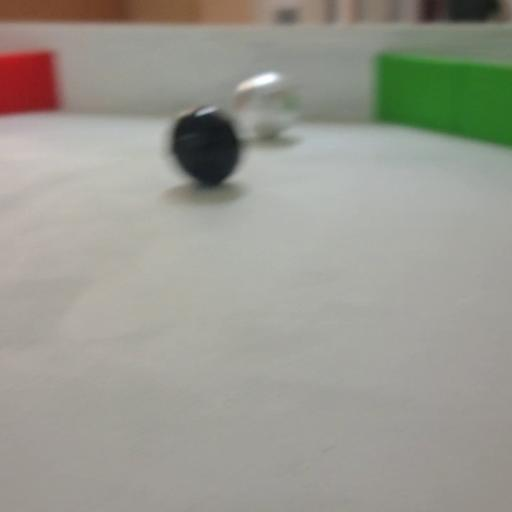alive: (232, 71, 302, 140)
dead: (167, 105, 244, 186)
